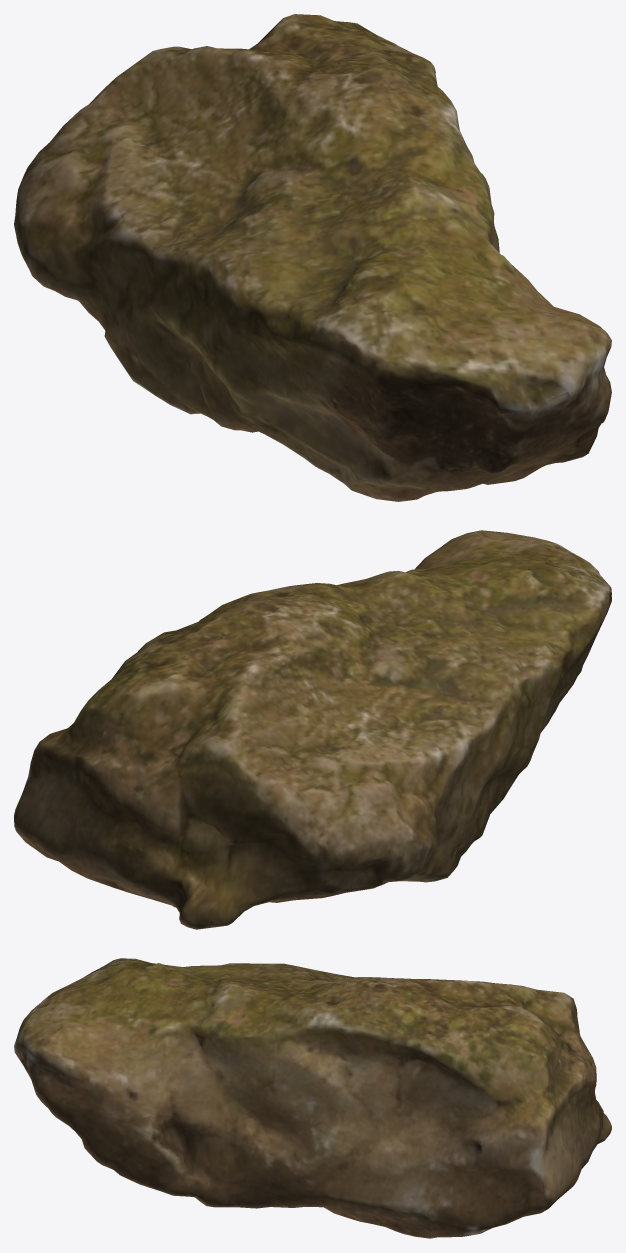
File: Scan_MossRock_E.fbx
3 renders of one model, top to bottom at view 1: azimuth 30°, elevation 25°; view 2: azimuth 150°, elevation 25°; view 3: azimuth 270°, elevation 25°, orthographic. The views are drawn at different scales.
Parts seen in each view (by area): view 1: Scan_MossRock_E_LOD0; view 2: Scan_MossRock_E_LOD0; view 3: Scan_MossRock_E_LOD0.
Part boxes in pixels (left/top/right/bottom): Scan_MossRock_E_LOD0: left=14, top=14, right=611, bottom=501; Scan_MossRock_E_LOD0: left=14, top=530, right=611, bottom=929; Scan_MossRock_E_LOD0: left=14, top=958, right=611, bottom=1238.
Size of what is drawn, in the model's own units: 1.82 by 1.21 by 3.
